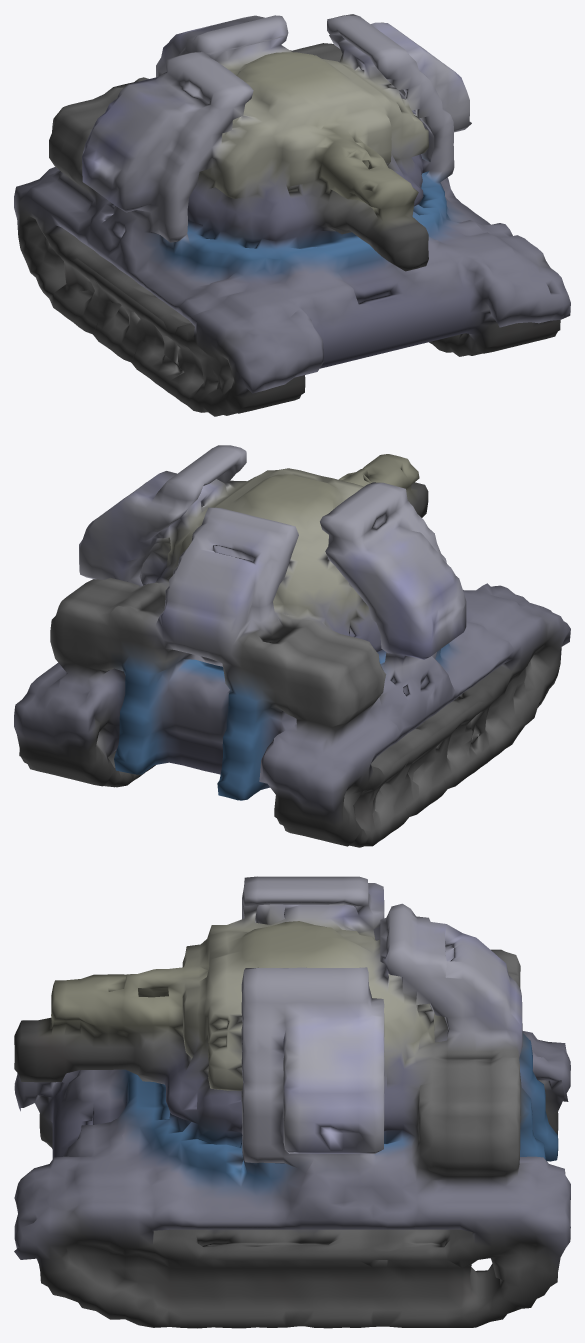
The model's file is mirage_tank.glb.
The picture shows the model from 3 angles, top to bottom: view 1: azimuth 30°, elevation 25°; view 2: azimuth 150°, elevation 25°; view 3: azimuth 270°, elevation 25°; orthographic projection. The views are drawn at different scales.
Parts seen in each view (by area): view 1: mirage_tank; view 2: mirage_tank; view 3: mirage_tank.
Boxes of the visible parts, x1,y1,x2,y2 form: mirage_tank: (14,14,570,416); mirage_tank: (14,445,570,847); mirage_tank: (14,876,570,1328).
Bounding box in the file's own units: 3.09 × 2.29 × 3.66.
